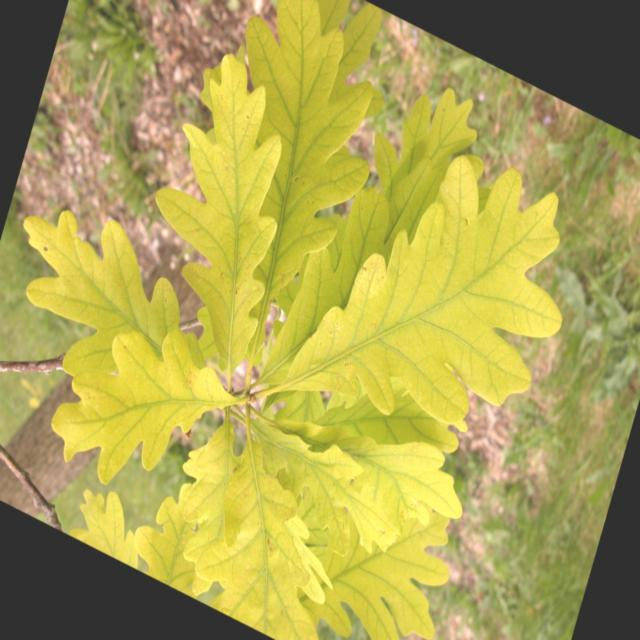Chlorosis: (106, 107, 492, 613)
